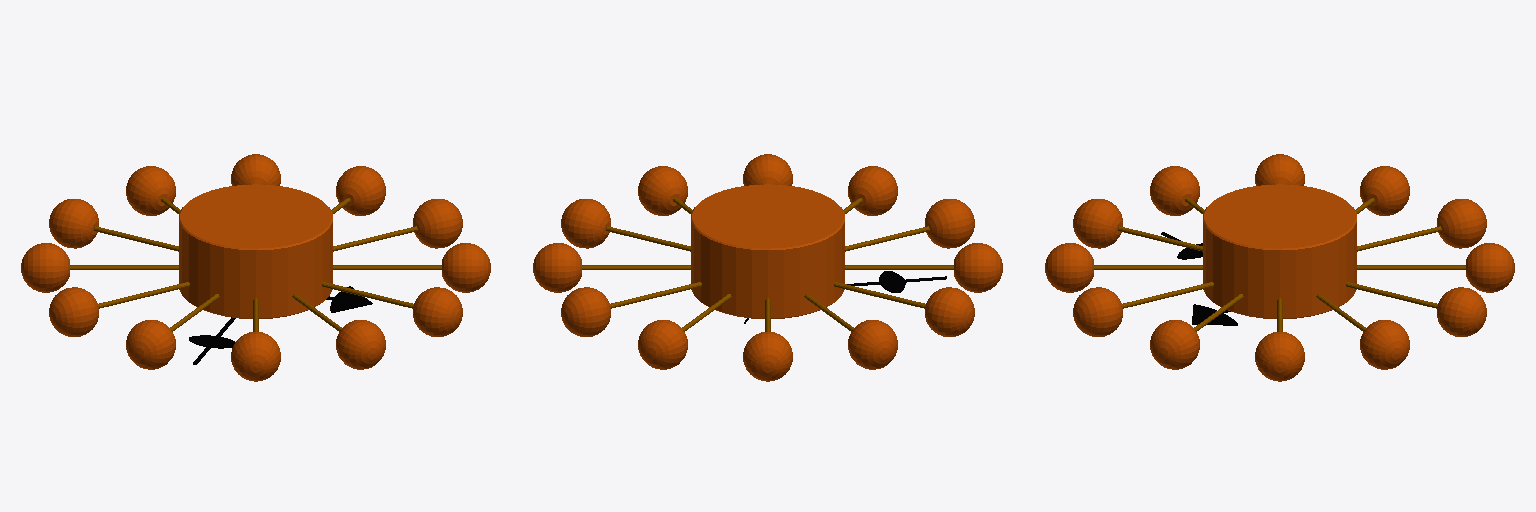
The model's file is vitra_ball_clock_mat(4).obj.
3 renders of one model, left to right at view 1: azimuth 30°, elevation 25°; view 2: azimuth 150°, elevation 25°; view 3: azimuth 270°, elevation 25°, orthographic.
Visible parts, largest first — view 1: vitra_ball_clock_mat4; view 2: vitra_ball_clock_mat4; view 3: vitra_ball_clock_mat4.
Part boxes in pixels (x1,y1,x2,y2): vitra_ball_clock_mat4: (21,154,490,381); vitra_ball_clock_mat4: (533,154,1002,381); vitra_ball_clock_mat4: (1045,154,1514,381).
Size of the model in its own units: 33.15 by 6.15 by 33.15.